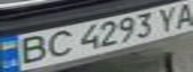2: (96, 18, 121, 48)
3: (133, 10, 160, 39)
4: (75, 20, 103, 52)
9: (115, 15, 142, 44)
A: (169, 1, 193, 29)
B: (9, 33, 54, 65)
C: (39, 28, 78, 60)
Y: (151, 4, 187, 33)
